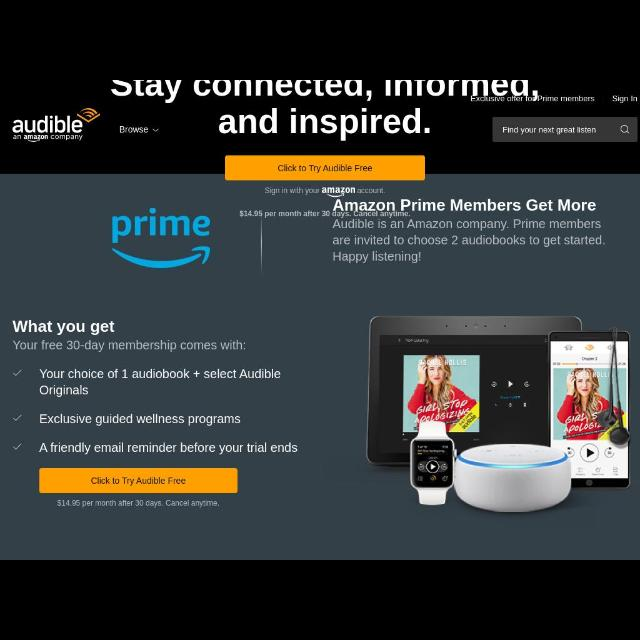icon: (619, 124, 631, 136), (12, 414, 22, 422), (12, 370, 22, 376), (12, 443, 22, 449), (151, 126, 159, 132)
image: (368, 316, 632, 514), (112, 208, 210, 270), (9, 108, 101, 144), (321, 186, 355, 198)
input: (494, 118, 636, 142)
spinner: (119, 125, 160, 135)
text: (332, 218, 606, 264), (111, 81, 536, 105), (38, 368, 282, 398), (218, 109, 430, 141), (333, 198, 597, 212), (12, 338, 246, 352), (39, 442, 299, 454), (39, 413, 241, 427), (12, 319, 116, 336), (56, 498, 220, 508), (239, 209, 411, 217), (470, 95, 596, 103), (90, 475, 186, 485), (502, 126, 596, 134), (264, 186, 320, 197), (356, 187, 386, 195), (612, 95, 638, 104), (120, 126, 148, 134)
textbutton: (39, 468, 238, 494), (225, 156, 425, 180)
